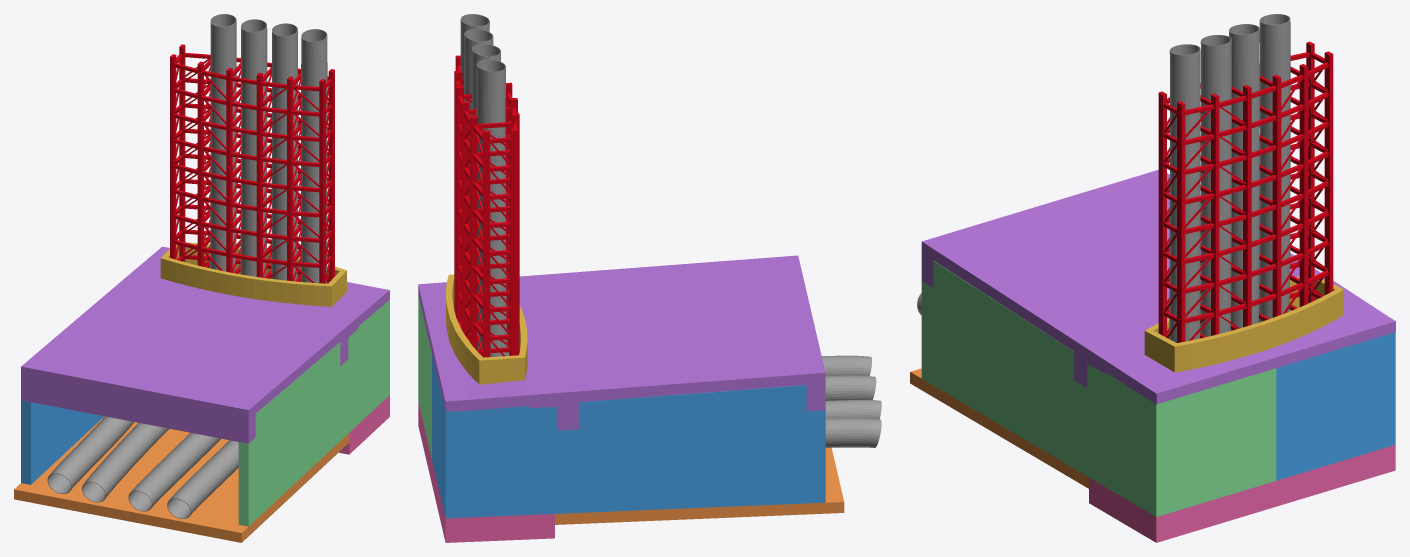
Rendered from Cliff.glb.
The picture shows the model from 3 angles, left to right: view 1: azimuth 30°, elevation 25°; view 2: azimuth 150°, elevation 25°; view 3: azimuth 270°, elevation 25°; orthographic projection. The views are drawn at different scales.
Parts seen in each view (by area): view 1: Plane.002, Plane.001, Plane.010, Cube, Cube.002, BézierCurve.002, BézierCurve.003, BézierCurve.001, BézierCurve, Plane.003, Cube.016, Plane (+1 smaller); view 2: Plane.002, Plane, Plane.010, BézierCurve.003, Cube, Cube.002, Cube.001, Plane.003, BézierCurve.001, BézierCurve.002, Cube.016, BézierCurve (+1 smaller); view 3: Plane.001, Plane.002, Plane.010, Plane, Cube.002, Cube.001, Plane.003, BézierCurve, BézierCurve.003, BézierCurve.001, BézierCurve.002, Cube.016 (+1 smaller).
Part boxes in pixels (x1=…): Plane.002: x1=21, y1=246, x2=389, y2=443; Plane.001: x1=238, y1=299, x2=389, y2=526; Plane.010: x1=170, y1=44, x2=334, y2=283; Cube: x1=14, y1=416, x2=349, y2=542; Cube.002: x1=174, y1=52, x2=331, y2=283; BézierCurve.002: x1=82, y1=19, x2=267, y2=502; BézierCurve.003: x1=47, y1=14, x2=236, y2=493; BézierCurve.001: x1=128, y1=23, x2=297, y2=511; BézierCurve: x1=167, y1=29, x2=327, y2=518; Plane.003: x1=160, y1=242, x2=346, y2=306; Cube.016: x1=174, y1=59, x2=330, y2=282; Plane: x1=21, y1=400, x2=103, y2=484; Plane.002: x1=418, y1=255, x2=825, y2=430; Plane: x1=432, y1=354, x2=825, y2=518; Plane.010: x1=454, y1=55, x2=519, y2=357; BézierCurve.003: x1=476, y1=59, x2=881, y2=447; Cube: x1=555, y1=448, x2=844, y2=524; Cube.002: x1=456, y1=65, x2=517, y2=355; Cube.001: x1=418, y1=402, x2=554, y2=542; Plane.003: x1=446, y1=274, x2=527, y2=384; BézierCurve.001: x1=464, y1=29, x2=876, y2=400; BézierCurve.002: x1=472, y1=44, x2=881, y2=419; Cube.016: x1=463, y1=84, x2=510, y2=356; BézierCurve: x1=460, y1=14, x2=871, y2=376; Plane.001: x1=921, y1=260, x2=1276, y2=516; Plane.002: x1=921, y1=170, x2=1395, y2=404; Plane.010: x1=1158, y1=41, x2=1333, y2=342; Plane: x1=1276, y1=332, x2=1395, y2=480; Cube.002: x1=1163, y1=52, x2=1328, y2=338; Cube.001: x1=1089, y1=445, x2=1395, y2=542; Plane.003: x1=1144, y1=274, x2=1343, y2=372; BézierCurve: x1=917, y1=44, x2=1200, y2=342; BézierCurve.003: x1=1259, y1=14, x2=1290, y2=322; BézierCurve.001: x1=1200, y1=35, x2=1231, y2=336; BézierCurve.002: x1=1229, y1=24, x2=1259, y2=330; Cube.016: x1=1164, y1=70, x2=1327, y2=340.
Bounding box in the file's own units: 18.06 × 17.71 × 17.02.
